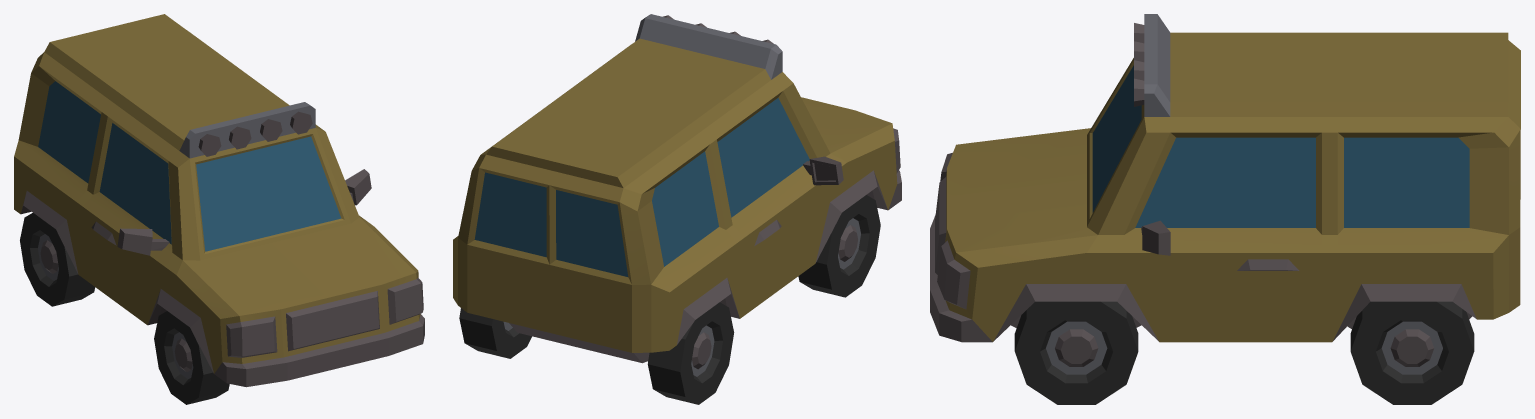
File: LP_VehicleD.fbx
The picture shows the model from 3 angles, left to right: view 1: azimuth 30°, elevation 25°; view 2: azimuth 150°, elevation 25°; view 3: azimuth 270°, elevation 25°; orthographic projection. The views are drawn at different scales.
Visible parts, largest first — view 1: VehicleD; view 2: VehicleD; view 3: VehicleD.
Part boxes in pixels (x1,y1,x2,y2): VehicleD: (14, 14, 424, 404); VehicleD: (453, 14, 901, 404); VehicleD: (930, 14, 1520, 404).
Bounding box in the file's own units: 203 × 183 × 332.
